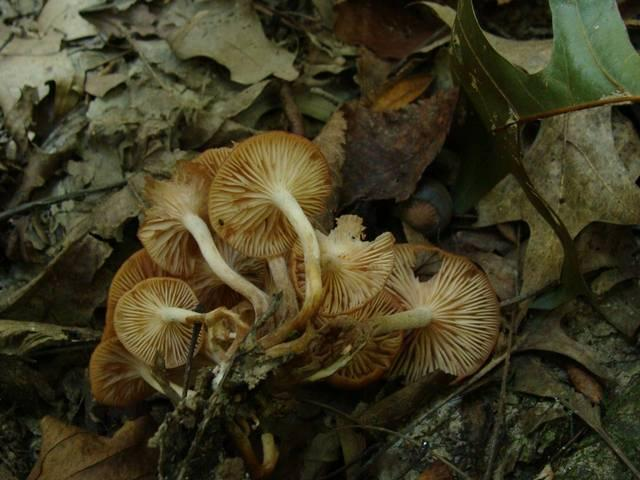edible_mushroom: (88, 129, 502, 408)
